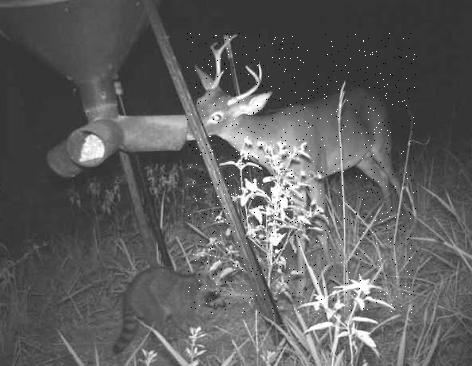Deer: (187, 32, 417, 314)
